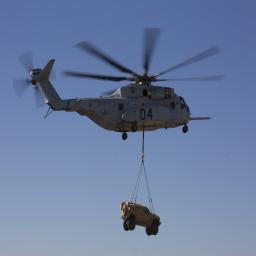helicopter: (17, 27, 229, 148)
